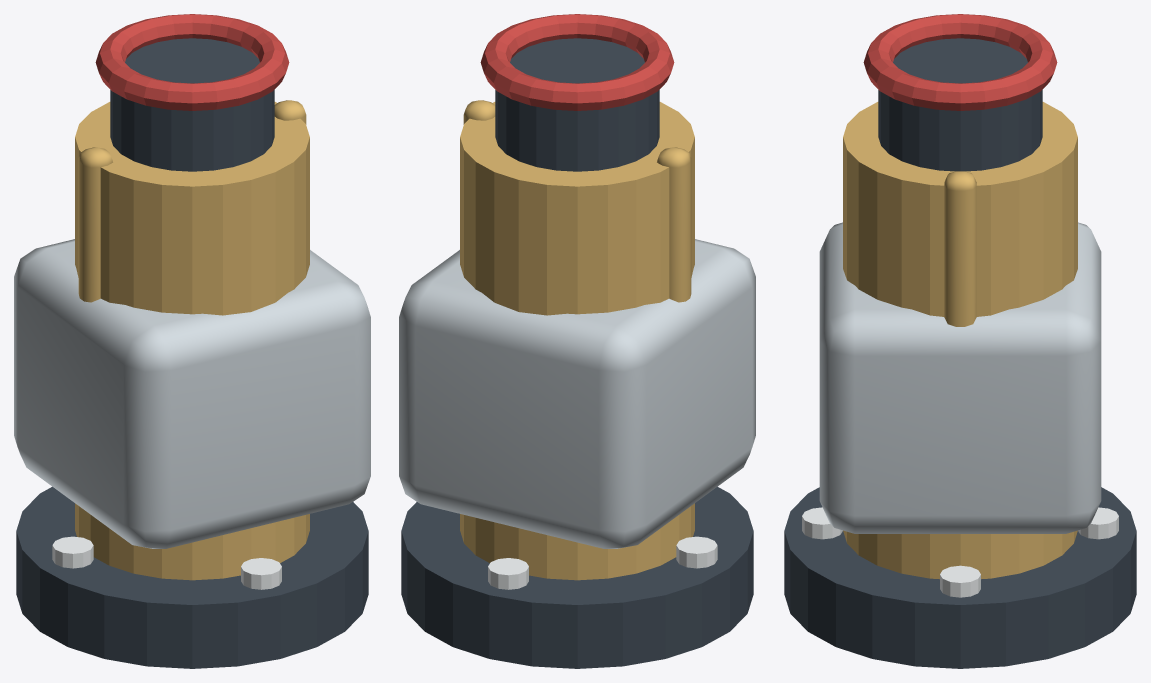
Rendered from monoprop_thruster.glb.
3 views of the same model, side by side, from view 1: azimuth 30°, elevation 25°; view 2: azimuth 150°, elevation 25°; view 3: azimuth 270°, elevation 25° (orthographic).
Parts seen in each view (by area): view 1: Thruster_Body, Mount_Flange, Nozzle_Chamber, Nozzle_Exit, Nozzle_Rim, Mount_Collar, Pipe, Mount_Bolt_002, Mount_Bolt_003, Pipe_001; view 2: Thruster_Body, Mount_Flange, Nozzle_Chamber, Nozzle_Exit, Nozzle_Rim, Mount_Collar, Pipe, Mount_Bolt_002, Mount_Bolt_001, Pipe_001; view 3: Thruster_Body, Mount_Flange, Nozzle_Chamber, Nozzle_Exit, Nozzle_Rim, Mount_Collar, Pipe_001, Mount_Bolt, Mount_Bolt_001, Mount_Bolt_003.
Boxes of the visible parts, x1,y1,x2,y2 form: Thruster_Body: (14, 239, 370, 548); Mount_Flange: (16, 486, 368, 668); Nozzle_Chamber: (75, 102, 309, 315); Nozzle_Exit: (110, 38, 274, 171); Nozzle_Rim: (95, 14, 289, 110); Mount_Collar: (75, 503, 309, 580); Pipe: (78, 147, 112, 302); Mount_Bolt_002: (52, 536, 93, 568); Mount_Bolt_003: (241, 558, 281, 589); Pipe_001: (274, 100, 306, 124); Thruster_Body: (399, 239, 755, 548); Mount_Flange: (401, 486, 753, 668); Nozzle_Chamber: (460, 102, 694, 315); Nozzle_Exit: (495, 38, 659, 171); Nozzle_Rim: (480, 14, 674, 110); Mount_Collar: (460, 503, 694, 580); Pipe: (657, 147, 691, 302); Mount_Bolt_002: (676, 536, 717, 568); Mount_Bolt_001: (488, 558, 528, 589); Pipe_001: (463, 100, 495, 124); Thruster_Body: (819, 222, 1101, 533); Mount_Flange: (784, 487, 1136, 668); Nozzle_Chamber: (843, 102, 1077, 316); Nozzle_Exit: (878, 38, 1042, 171); Nozzle_Rim: (863, 14, 1057, 110); Mount_Collar: (843, 530, 1077, 579); Pipe_001: (944, 171, 976, 326); Mount_Bolt: (940, 565, 980, 597); Mount_Bolt_001: (1078, 507, 1118, 539); Mount_Bolt_003: (802, 507, 842, 539).
Bounding box in the file's own units: 0.6 × 1.02 × 0.6.
